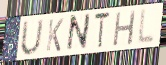H: (112, 9, 137, 49)
K: (45, 17, 65, 53)
L: (136, 7, 156, 46)
N: (65, 12, 92, 54)
T: (94, 10, 111, 51)
U: (19, 18, 45, 57)
